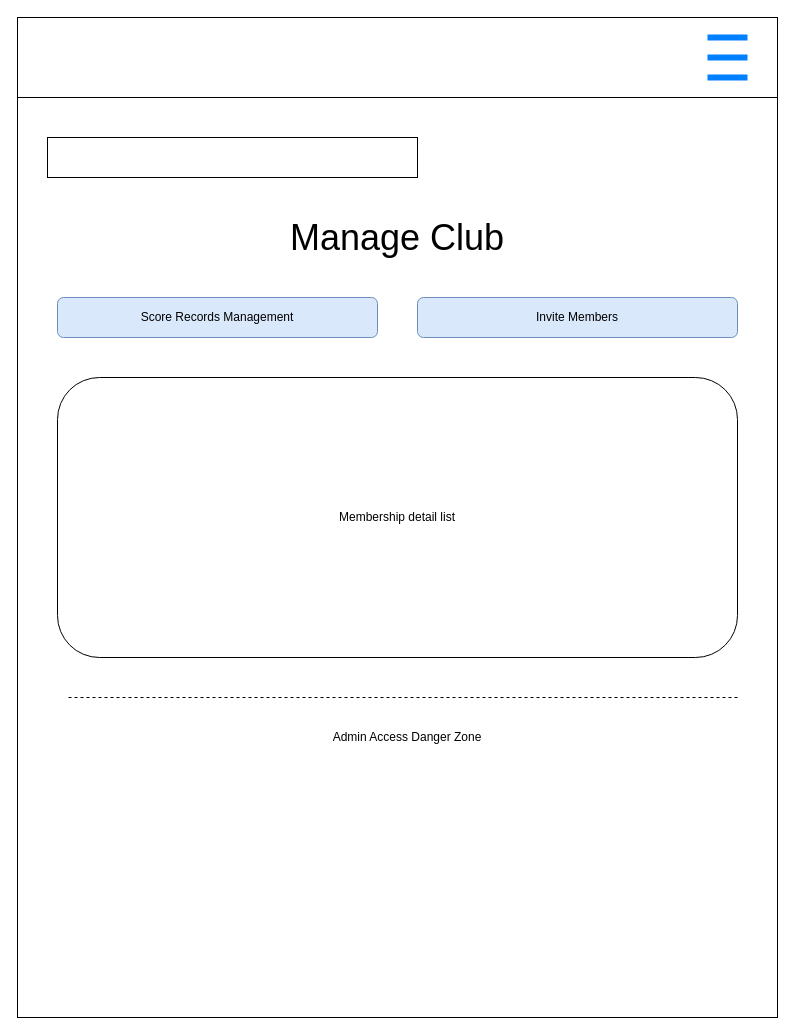
Some shapes in this 795 by 1035 pixel diagram are drawn without their labels. The shapes that lost their labels are listed below. From the top down, each one's box as (x1, y1, x2, y2) in pixels, then its label:
(16, 16, 778, 98): Archery Scorekeeper
(46, 136, 418, 178): Home > Clubs > ClubName
